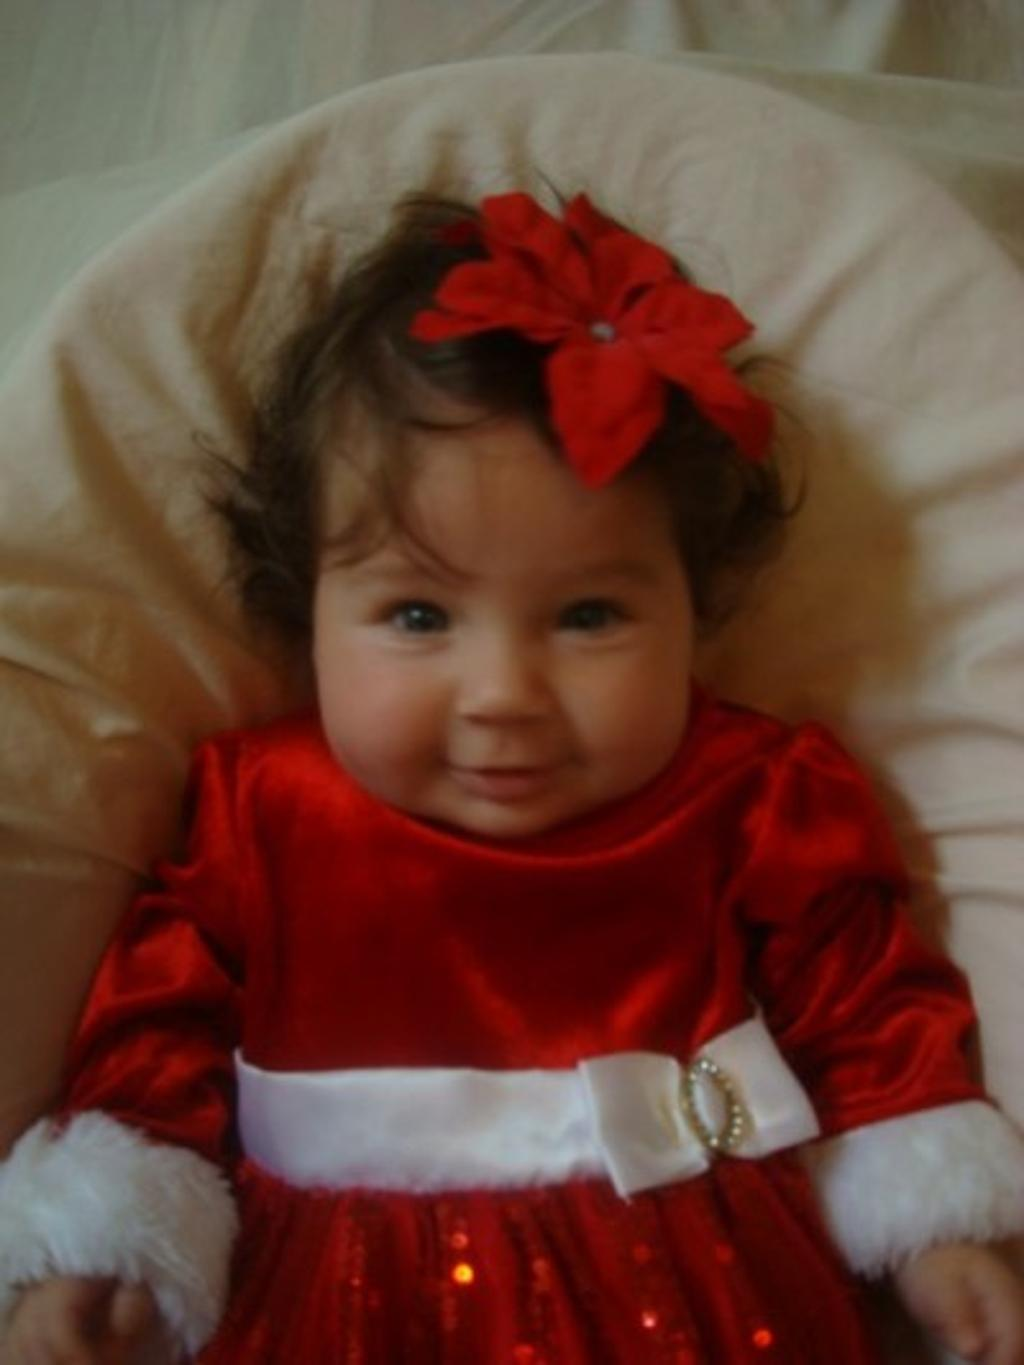face: (310, 382, 697, 835)
